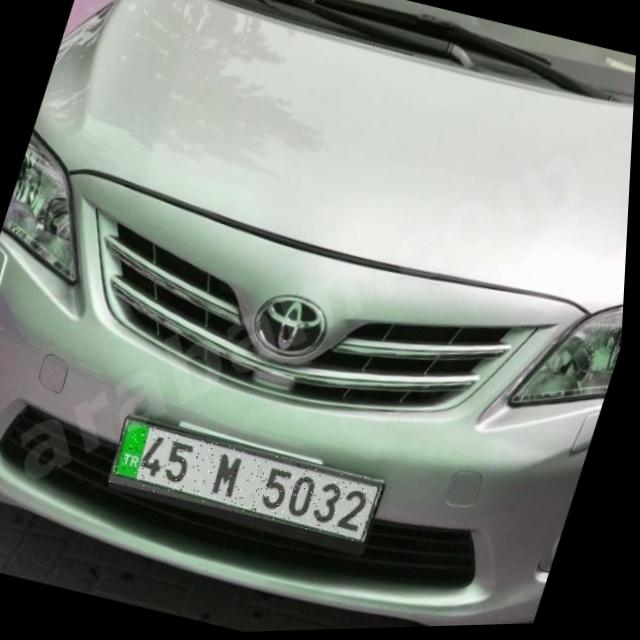license_plate: (109, 414, 391, 551)
